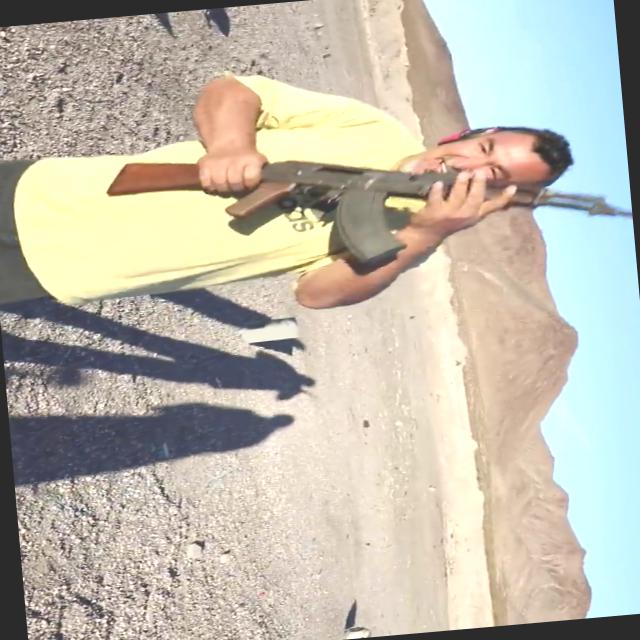long weapon: (85, 92, 634, 295)
